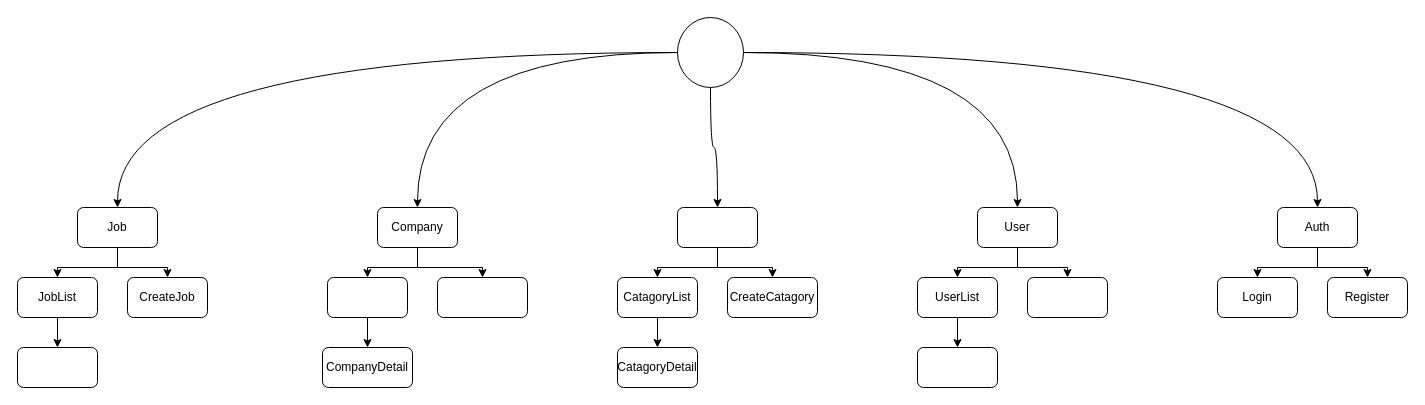
This 1425x405 diagram has some shape labels left out. Each missing label, with the centre of its shape:
"Catagory" belongs at point 717,227.
"CompanyList" belongs at point 367,297.
"CreateCompany" belongs at point 482,297.
"CreateUser" belongs at point 1067,297.
"Home" belongs at point 710,52.
"JobDetail" belongs at point 57,367.
"UserDetail" belongs at point 957,367.
